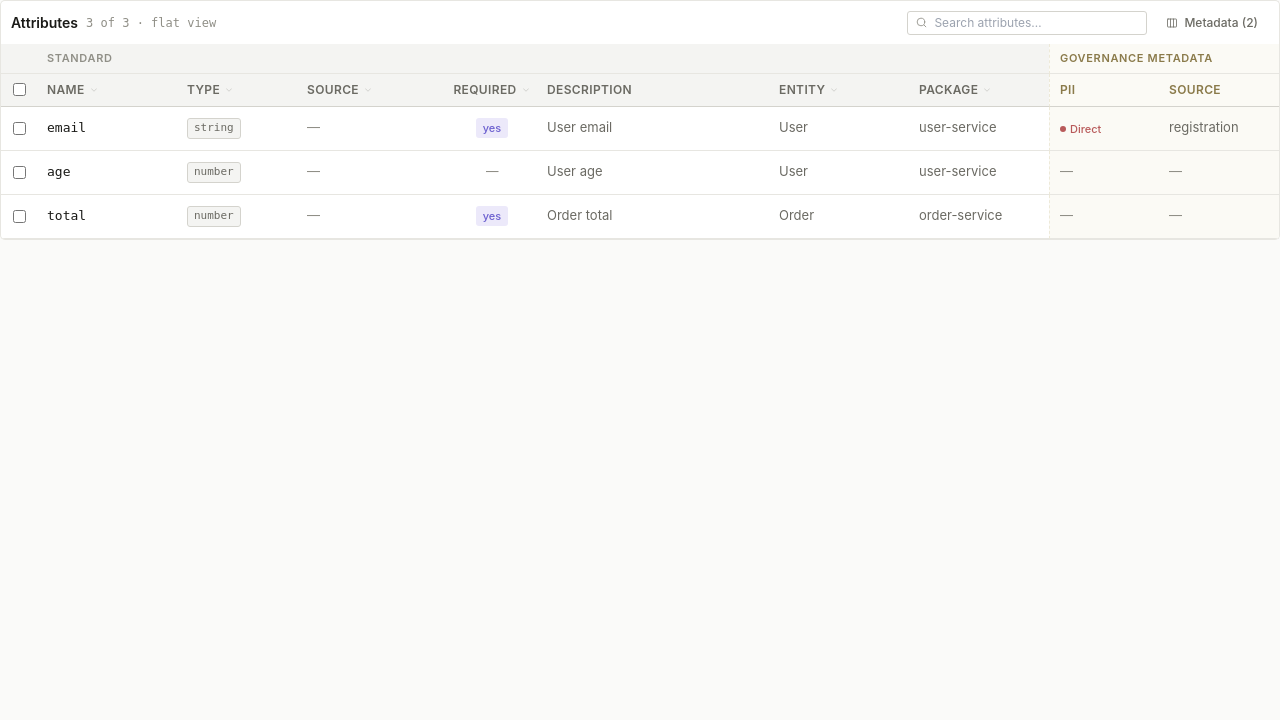
Scenario: AttributeFlatTable › saves a type change through the side panel
The width and height of the screenshot is (1280, 720).
Step 1. Click the text "email" → (67, 128), box [47,118,86,138]
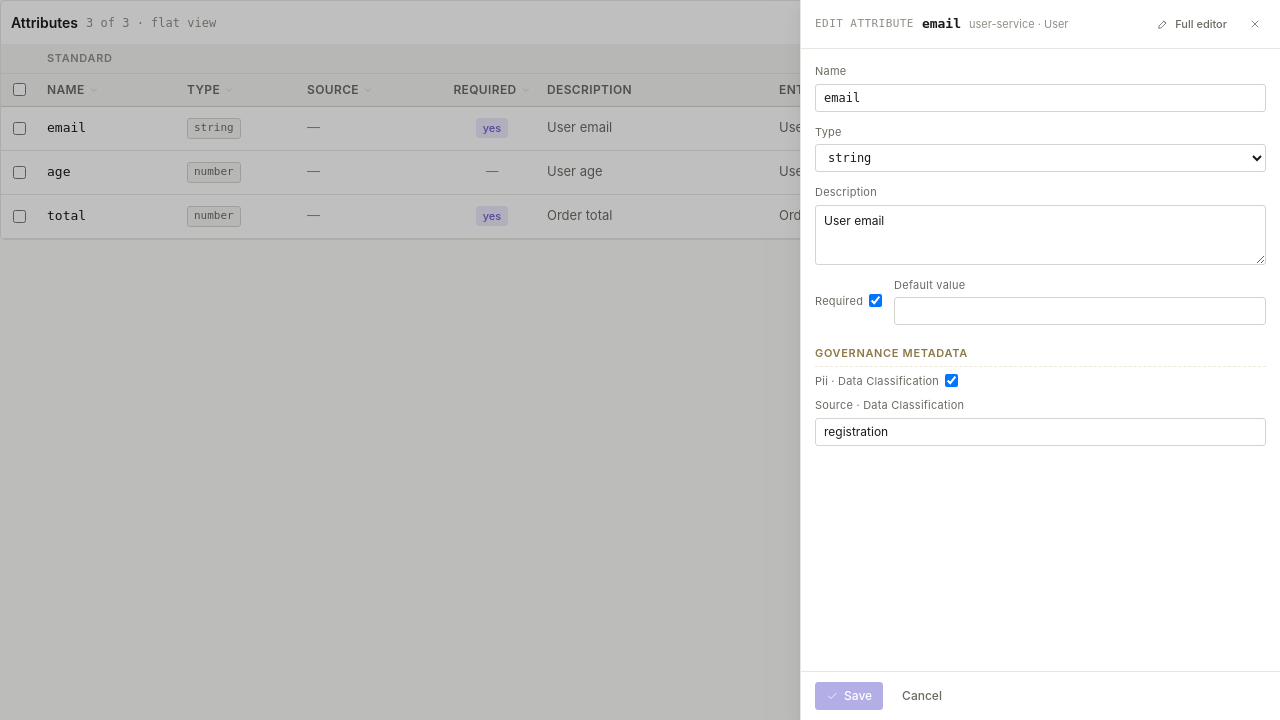
Step 2. Select "boolean" in the dropdown labelled "Type" → (1040, 158), box [815,144,1266,172]
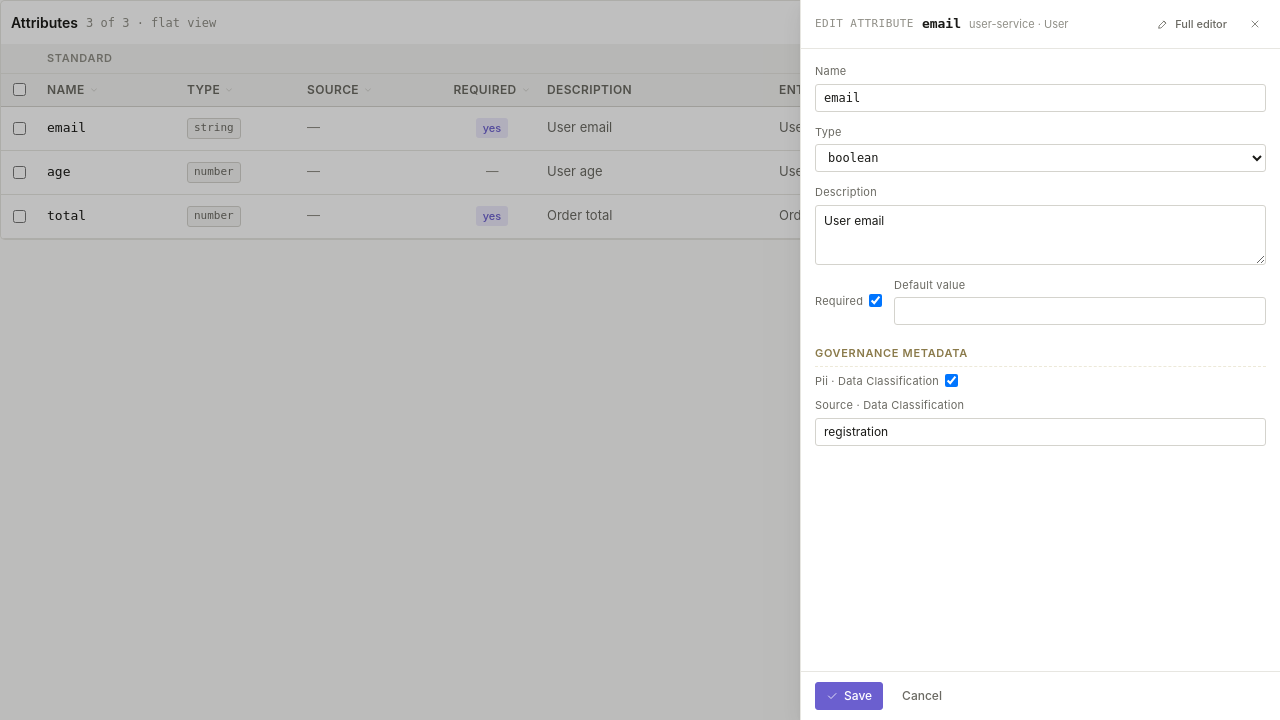
Step 3. Click the button "Save" → (849, 696), box [815,682,883,710]
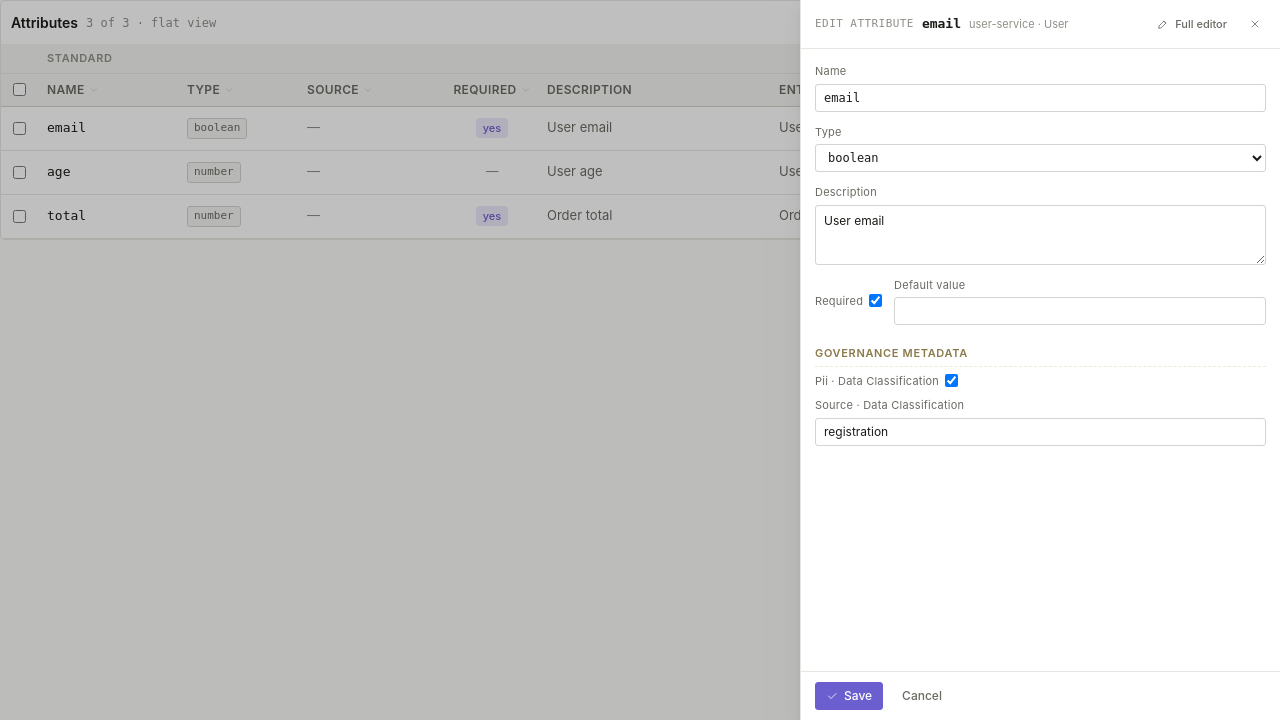
Result: the text "boolean" is shown at [187,118,247,139]
